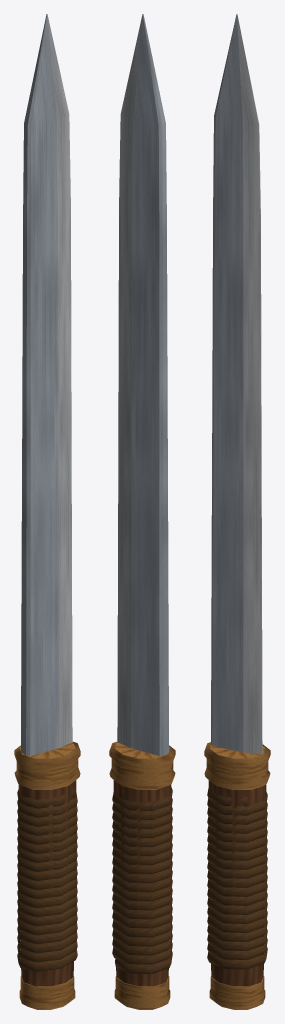
The model's file is thai-sword-02.glb.
3 views of the same model, side by side, from view 1: azimuth 30°, elevation 25°; view 2: azimuth 150°, elevation 25°; view 3: azimuth 330°, elevation 25° (orthographic).
Parts seen in each view (by area): view 1: Blade, Handle Wrap, Metal Fittings, Handle; view 2: Blade, Handle Wrap, Metal Fittings, Handle; view 3: Blade, Handle Wrap, Metal Fittings, Handle.
Part boxes in pixels (x1=…): Blade: x1=21, y1=14, x2=72, y2=755; Handle Wrap: x1=17, y1=788, x2=77, y2=971; Metal Fittings: x1=14, y1=741, x2=80, y2=1009; Handle: x1=18, y1=780, x2=76, y2=986; Blade: x1=117, y1=14, x2=168, y2=755; Handle Wrap: x1=112, y1=787, x2=172, y2=973; Metal Fittings: x1=109, y1=741, x2=175, y2=1009; Handle: x1=113, y1=780, x2=171, y2=986; Blade: x1=211, y1=14, x2=262, y2=754; Handle Wrap: x1=207, y1=788, x2=267, y2=969; Metal Fittings: x1=204, y1=742, x2=270, y2=1009; Handle: x1=208, y1=780, x2=266, y2=986.
Size of the model in its own units: 0.078 by 1.22 by 0.0627.
5 materials, 5 textured.
